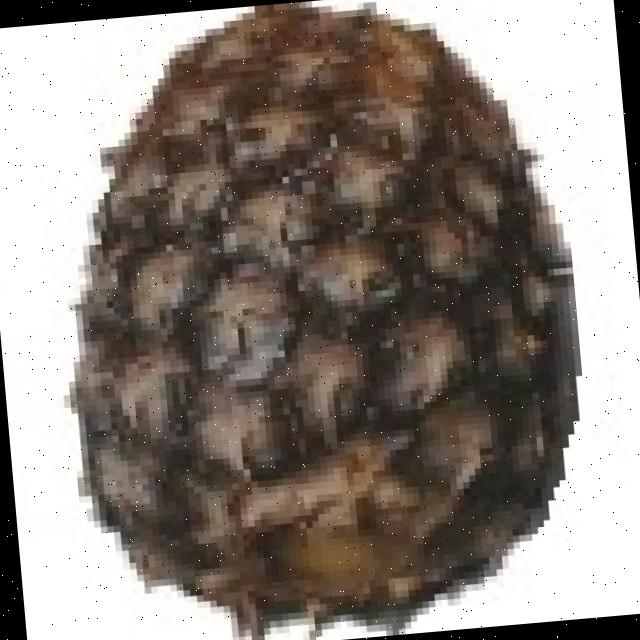pineapple: (63, 3, 564, 623)
